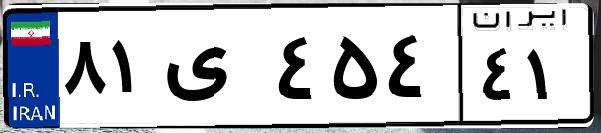1: (525, 38, 570, 115), (110, 28, 158, 98)
4: (270, 28, 330, 110), (385, 28, 445, 110), (475, 38, 525, 113)
5: (330, 28, 385, 110)
8: (57, 26, 110, 100)
ی: (158, 20, 270, 120)
